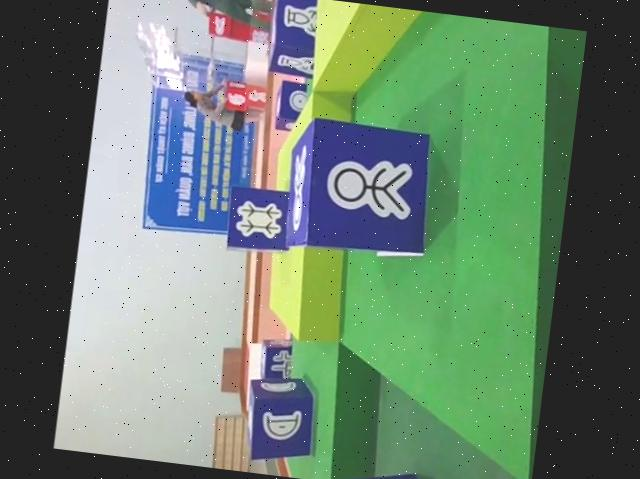R2 Real Blue: (281, 116, 442, 266), (240, 373, 323, 468), (223, 182, 298, 255), (263, 0, 320, 72), (326, 460, 481, 479), (271, 81, 307, 134), (258, 334, 295, 383)
